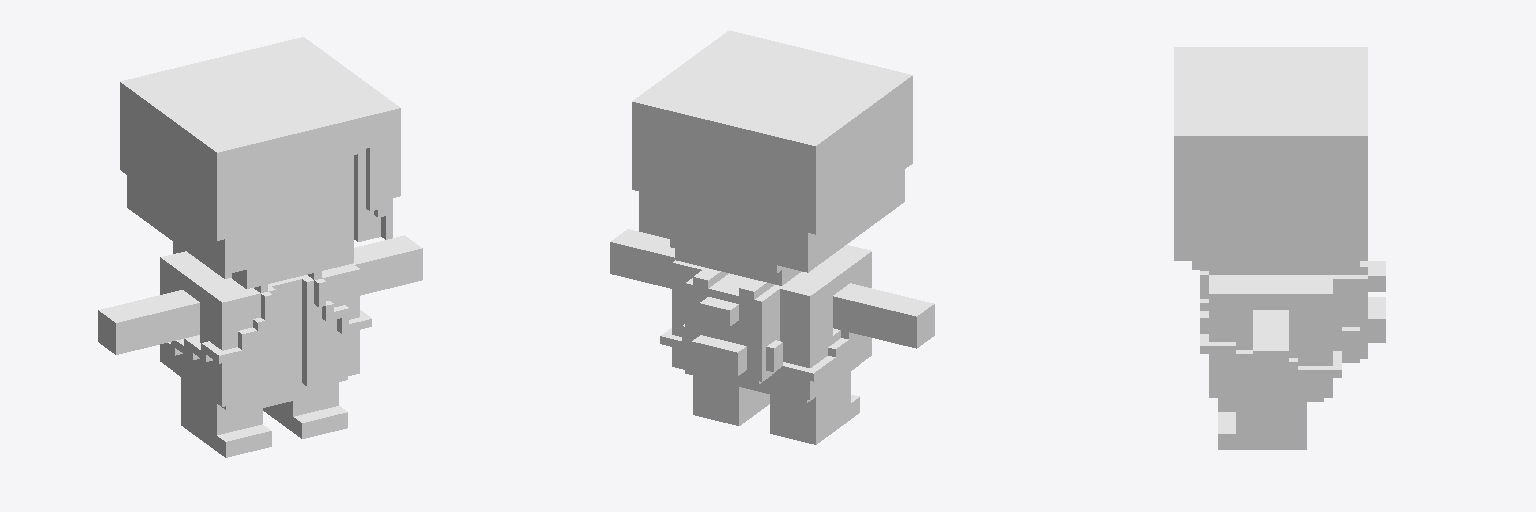
The model's file is LittleTimmy.obj.
3 views of the same model, side by side, from view 1: azimuth 30°, elevation 25°; view 2: azimuth 150°, elevation 25°; view 3: azimuth 270°, elevation 25° (orthographic).
Visible parts, largest first — view 1: object 1; view 2: object 1; view 3: object 1.
Boxes of the visible parts, x1=… form: object 1: x1=98, y1=37, x2=422, y2=457; object 1: x1=610, y1=30, x2=934, y2=444; object 1: x1=1174, y1=47, x2=1385, y2=449.
Bounding box in the file's own units: 4 × 4.1 × 2.4.